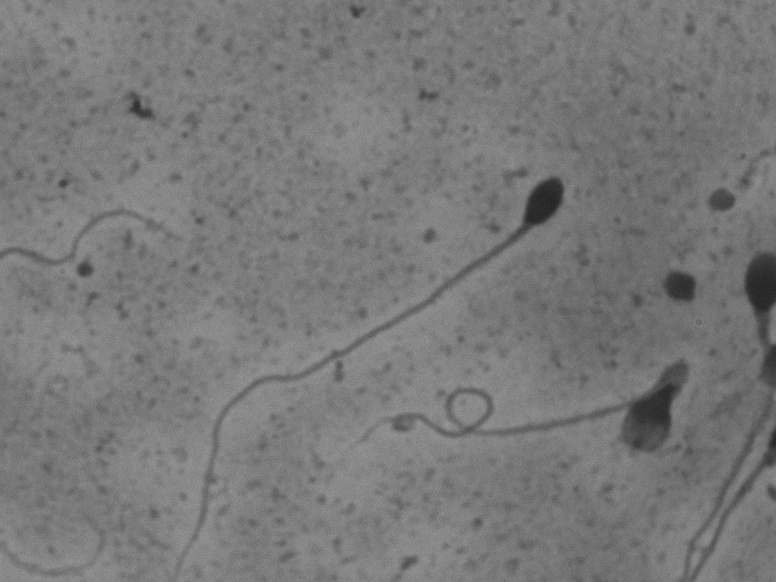Normal: (158, 154, 584, 569)
